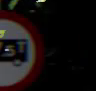Heavy Vehicles: (1, 6, 43, 88)
